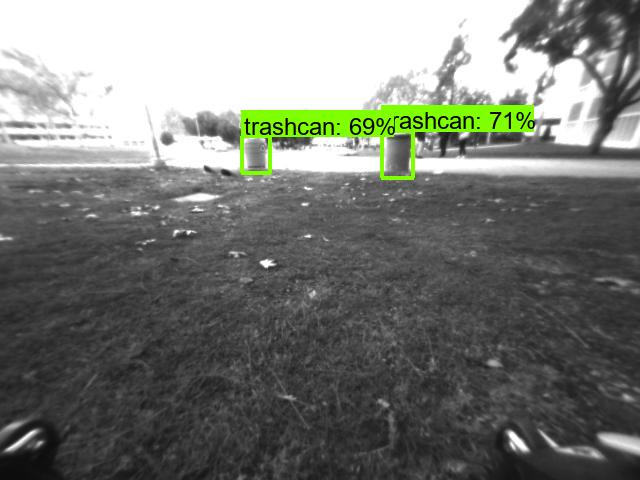trashcan: (381, 131, 412, 176), (242, 134, 267, 175)
